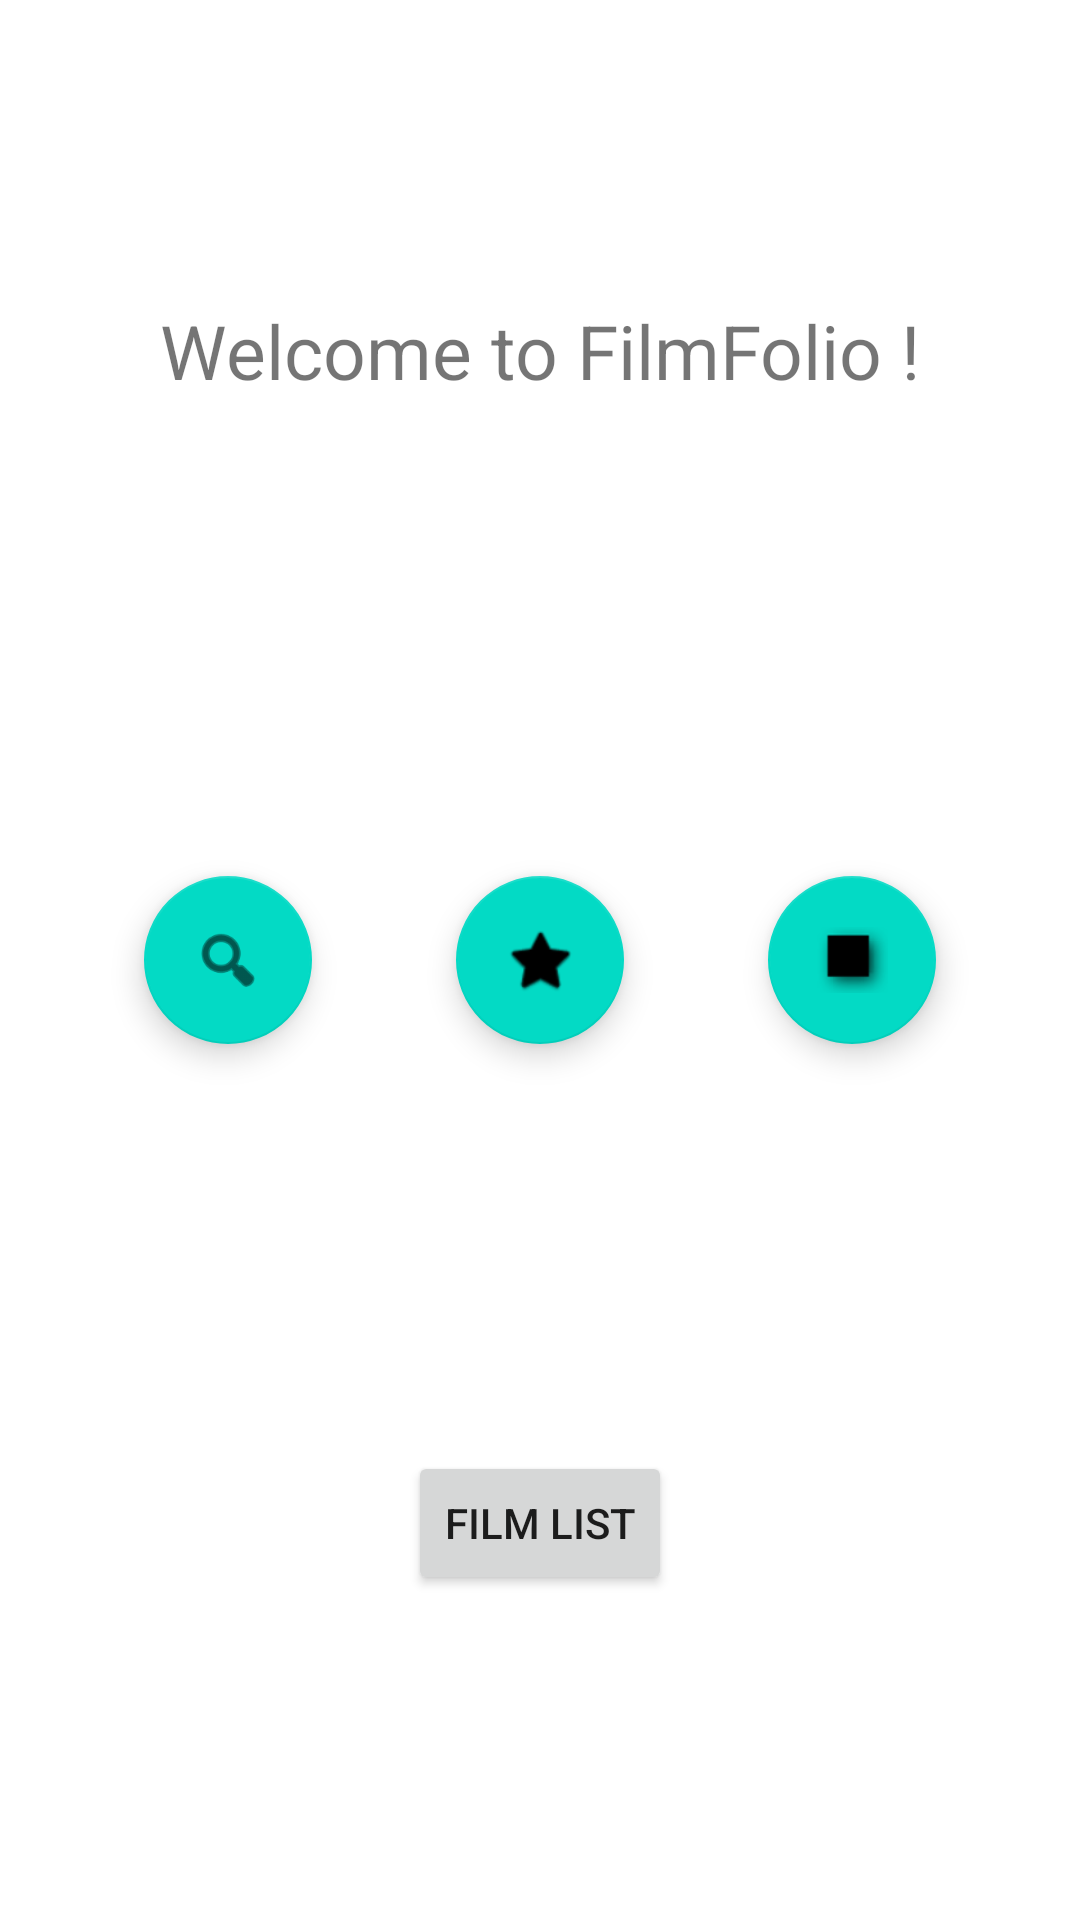

Where to tap for icons on this 1080px x 1920px app screen, as [x,y]:
My favourites: [540,960]
Start a search: [228,960]
